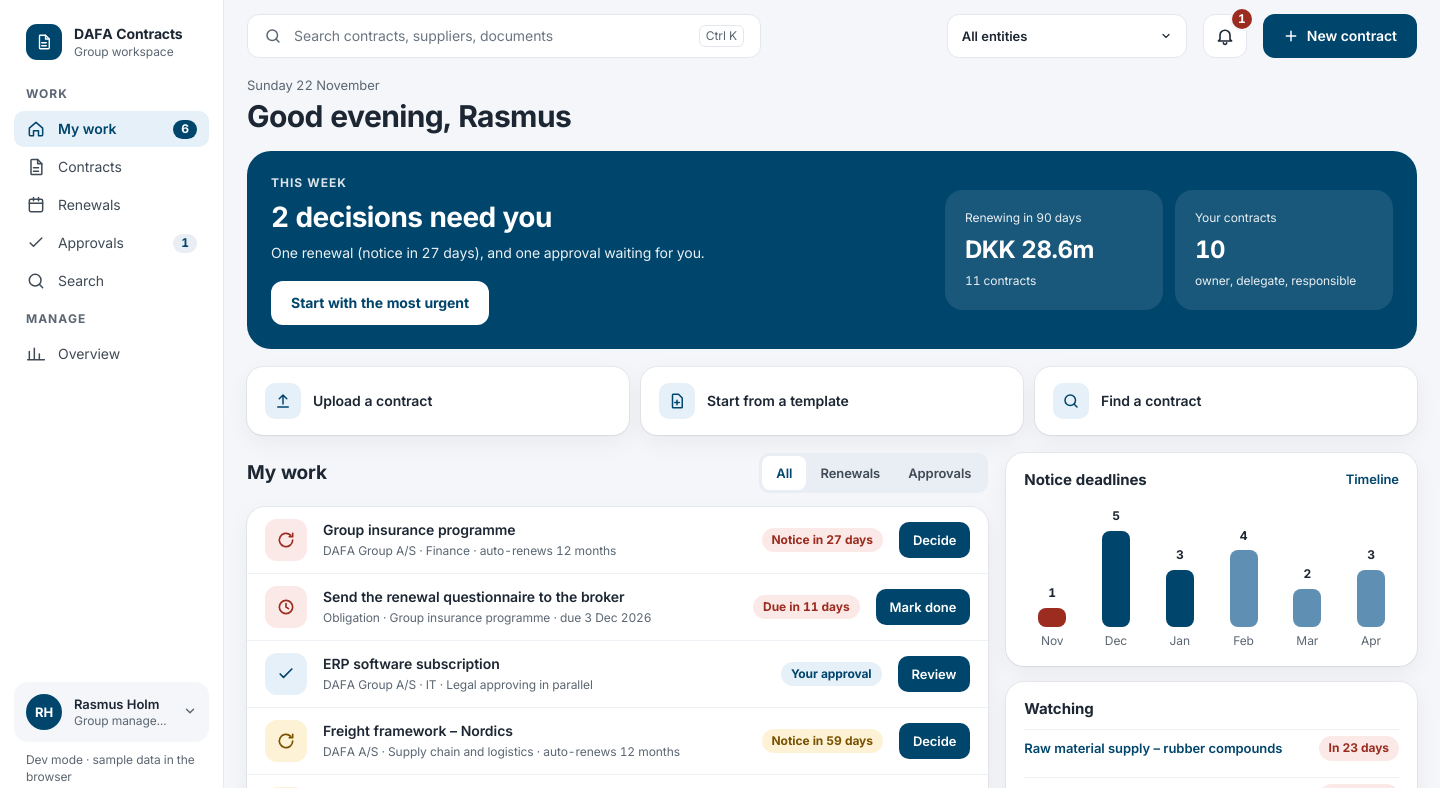
it: Home › lists the tasks and completes an obligation from the list
Check: the text "2 decisions need you" is shown, box [271, 200, 552, 234]
Click the button with aria-label "Mark done: Send the renewal questionnaire to the broker" at (923, 607), box [876, 589, 970, 625]
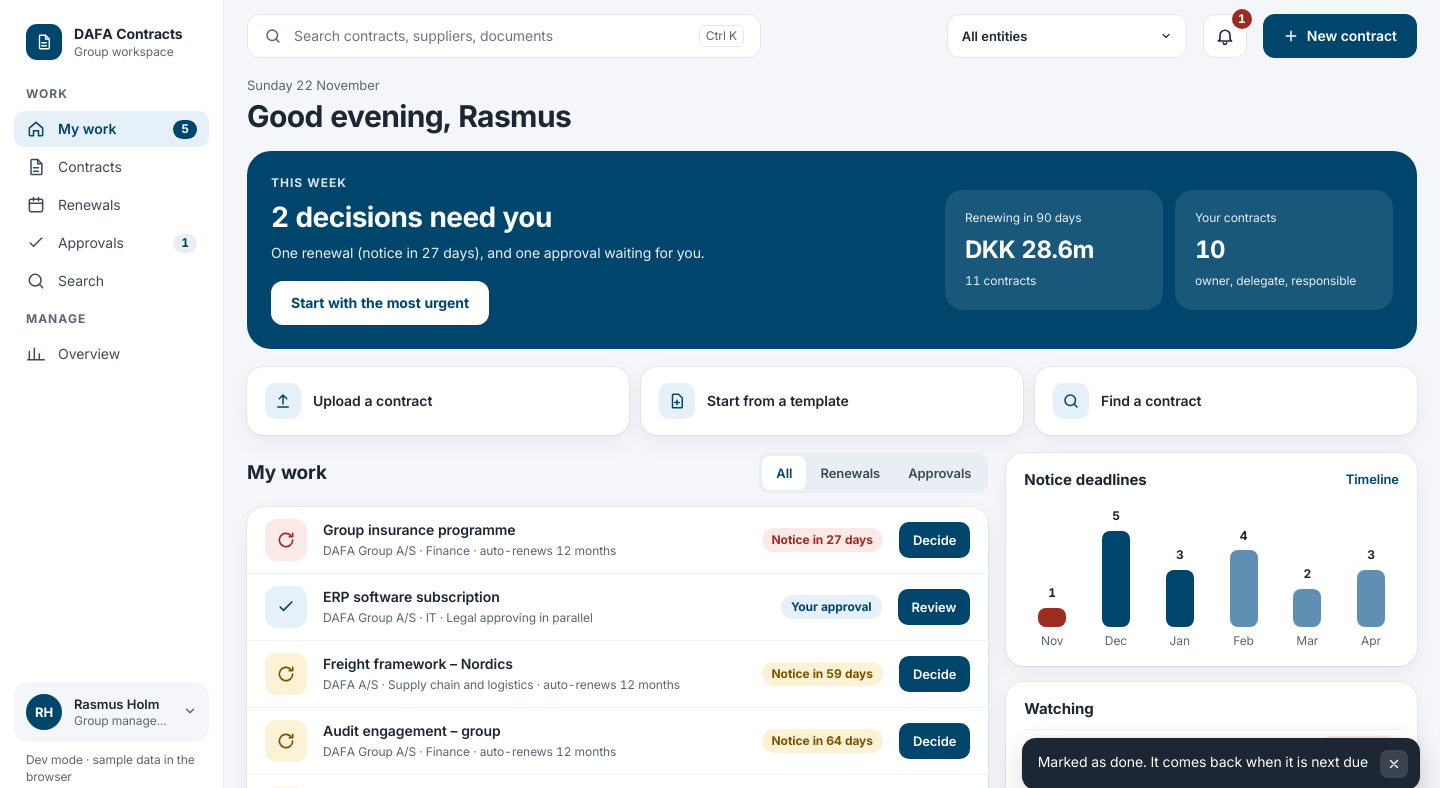
Check: the text "Marked as done. It comes back when it is next due" is shown, box [1038, 750, 1368, 772]
Check: the text "Due in 11 days" is gone
